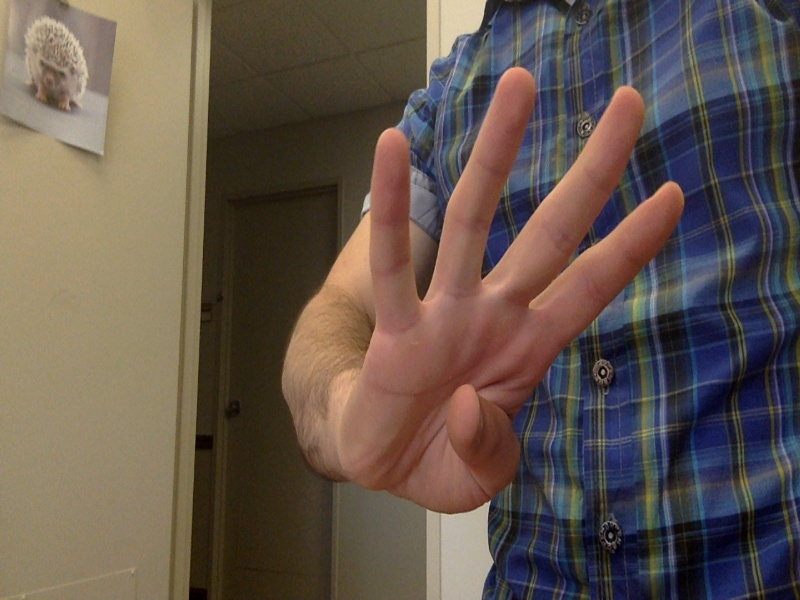4-hand: (371, 69, 685, 515)
